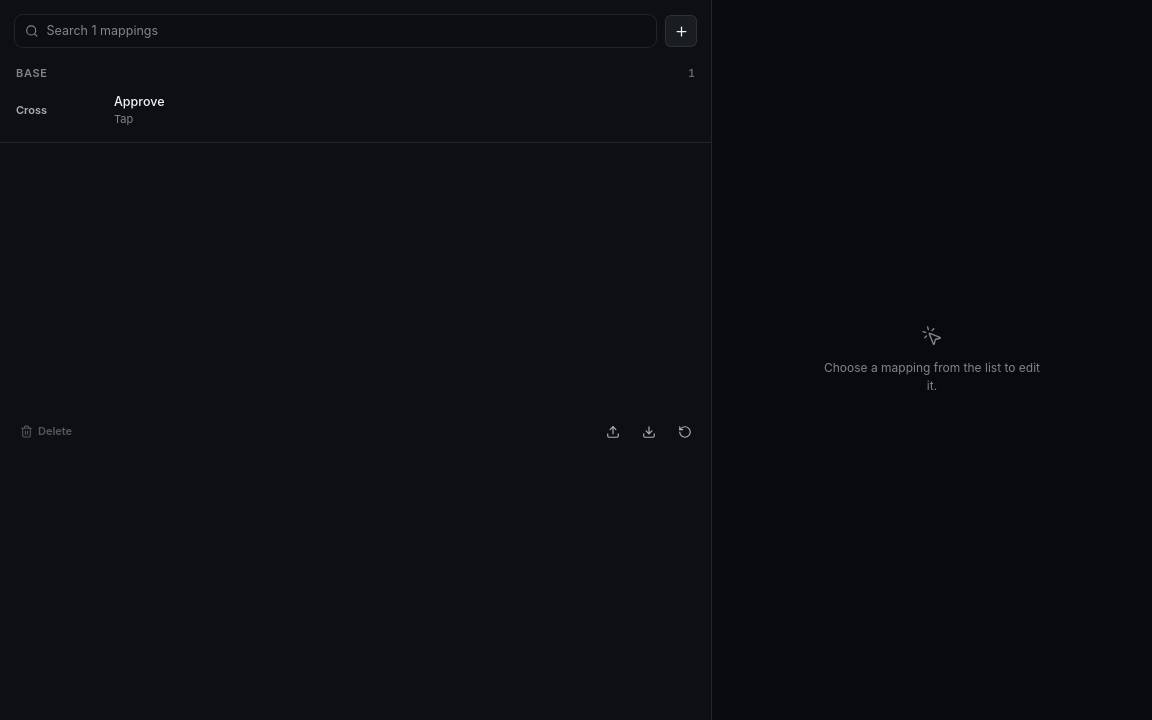
Test: the empty state › blames the search only when there is a search
The image size is (1152, 720).
Type "nothing matches this" into the field named "Search mappings".
click(351, 31); type("nothing matches this")  # box x1=46 y1=15 x2=656 y2=47
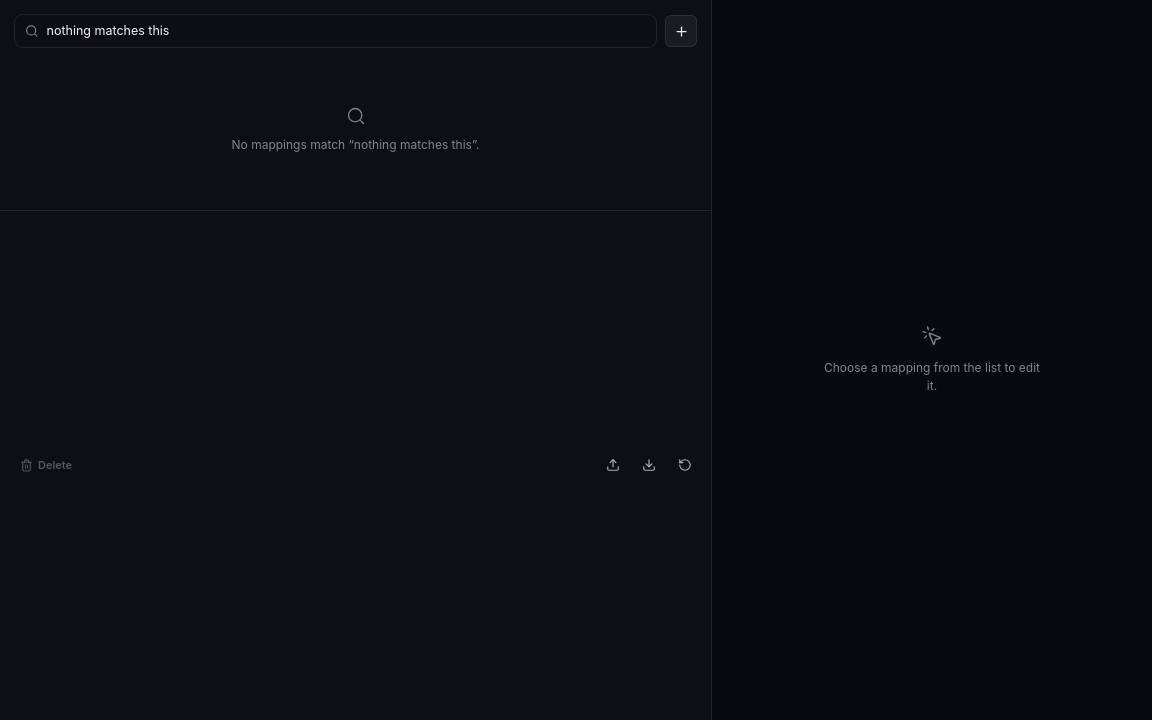
Expected: the text "No mappings match “nothing matches this”." is shown, x1=232 y1=136 x2=480 y2=154
